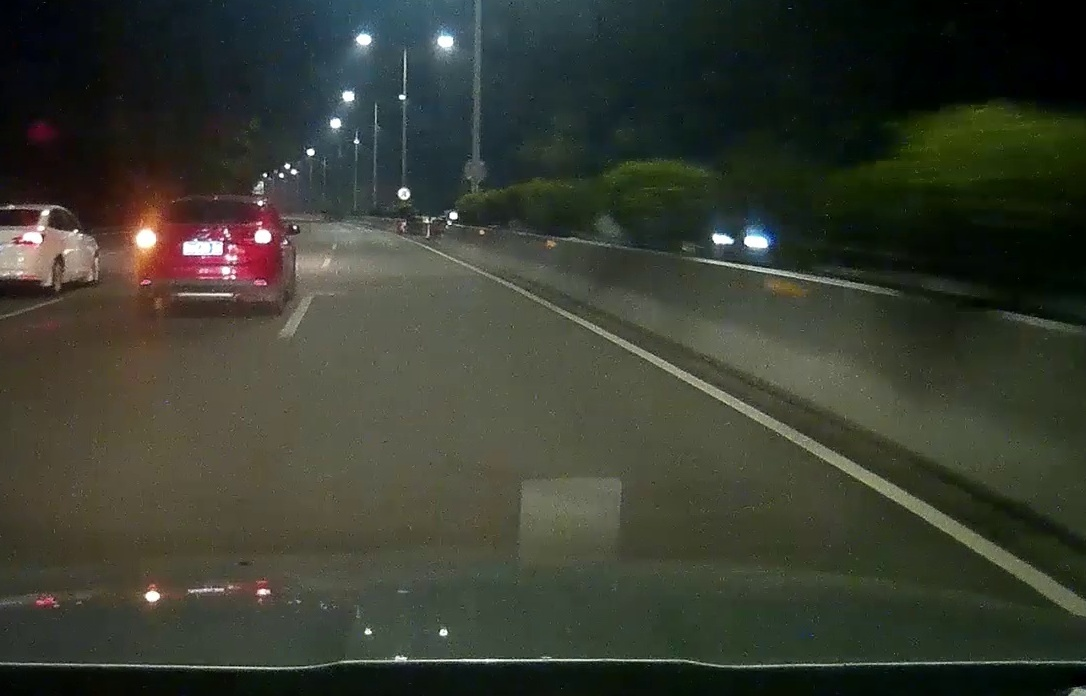L_light: (136, 231, 158, 249)
R_light: (252, 229, 276, 245)
T_light: (203, 201, 222, 206)
night-left: (134, 192, 280, 317)
